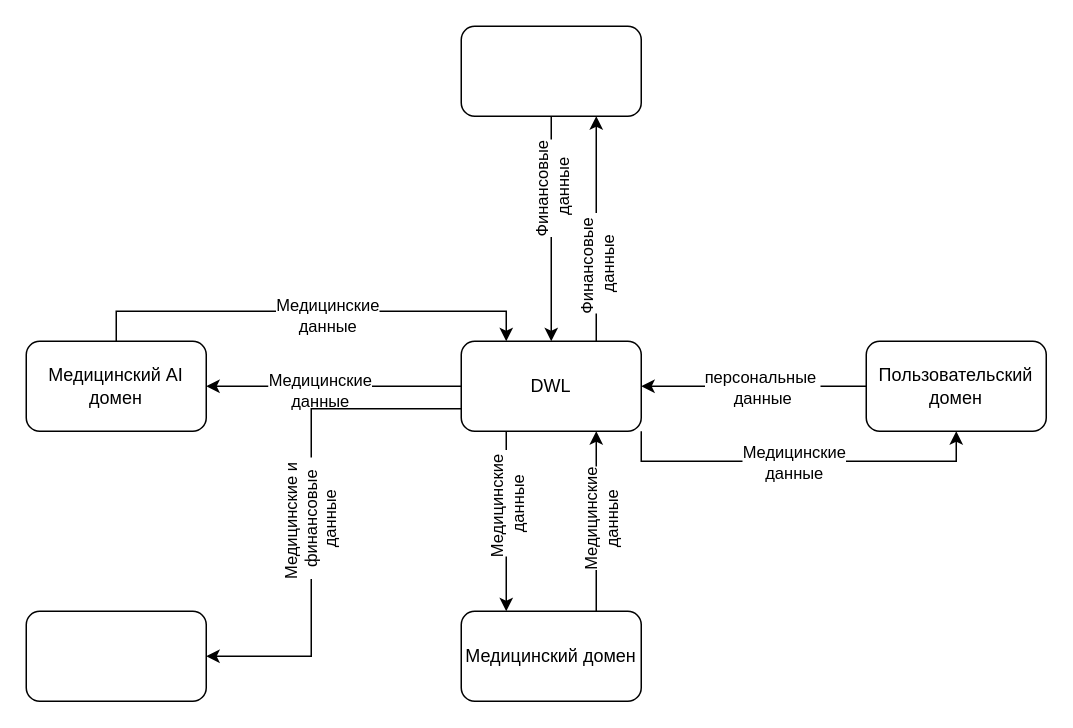
Image size: 1073x728. Some labels were removed from this diagram. The shapes that lost their labels are listed below. From the top down, each one's box as (x1, y1, x2, y2) in pixels, then its label:
(460, 25, 641, 116): Финтех. Домен
(25, 610, 206, 701): Домен аналитики
